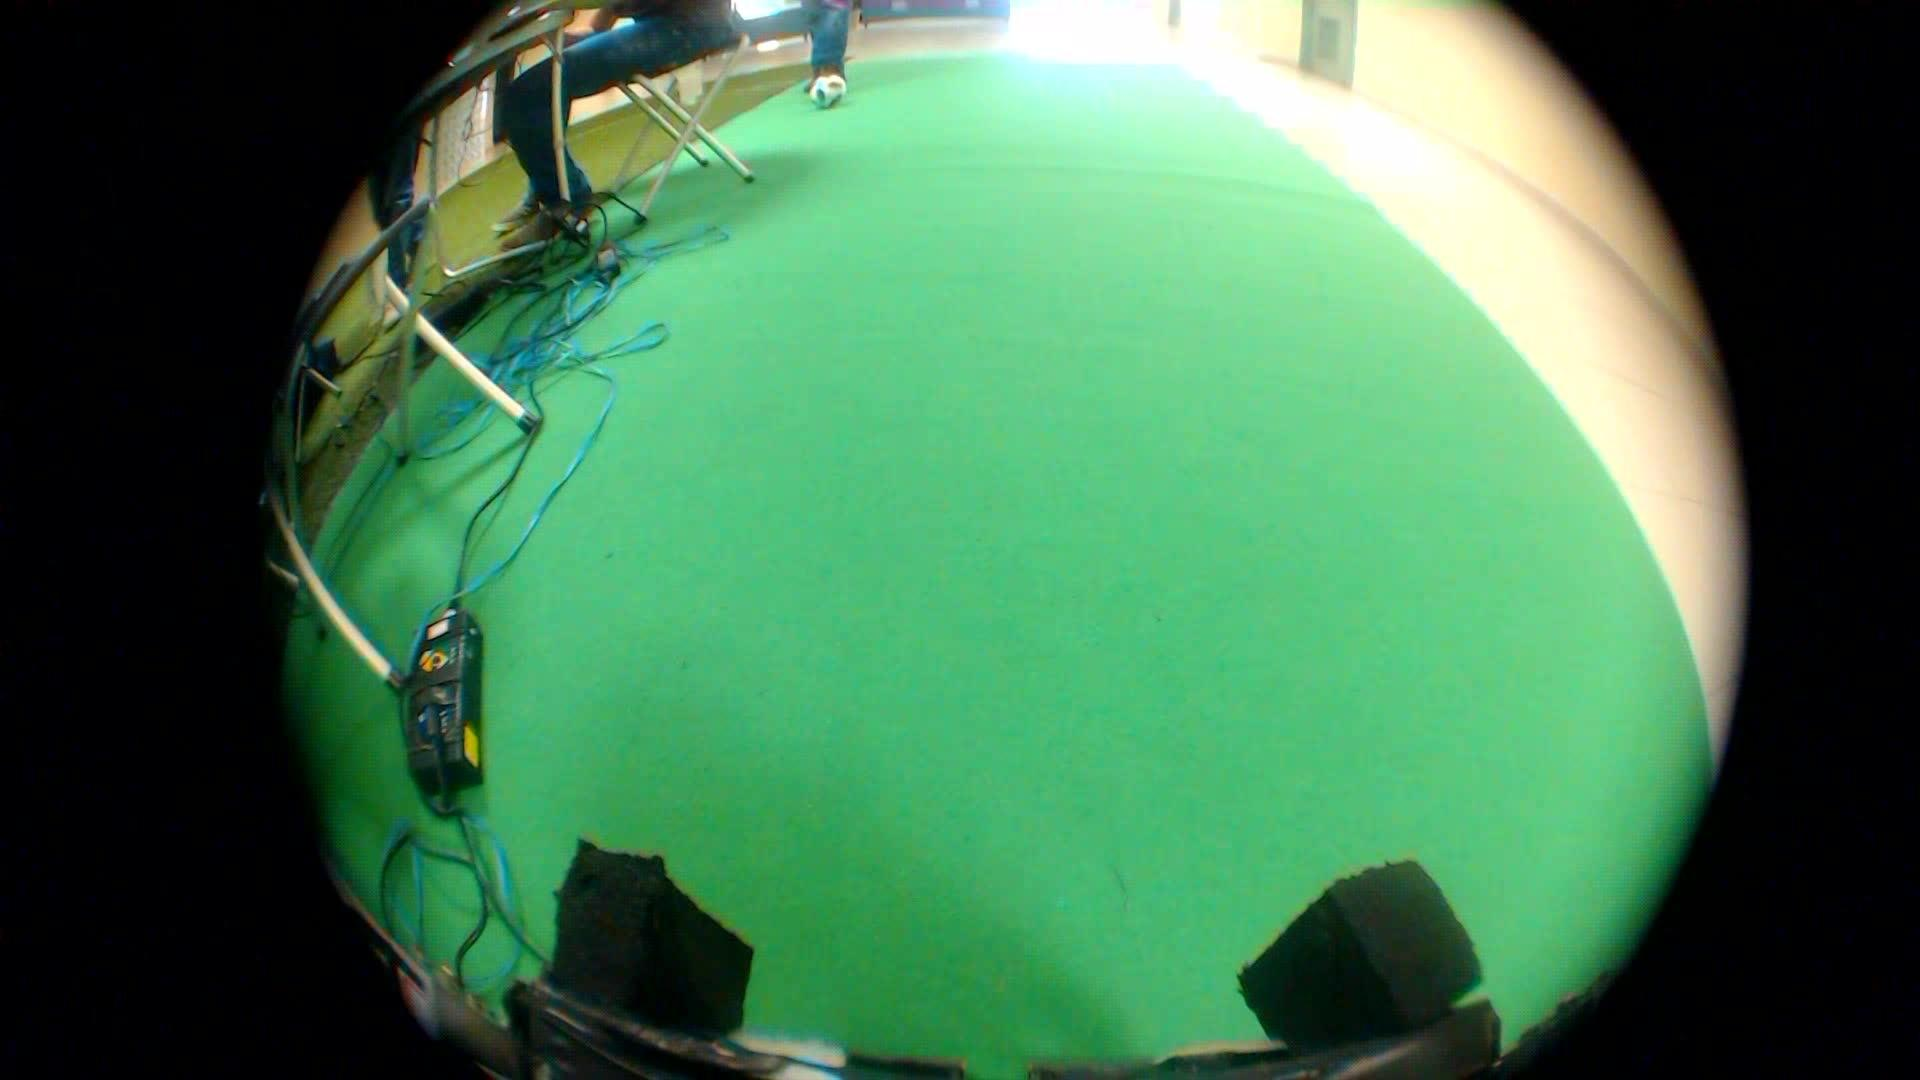ball: (803, 69, 849, 117)
